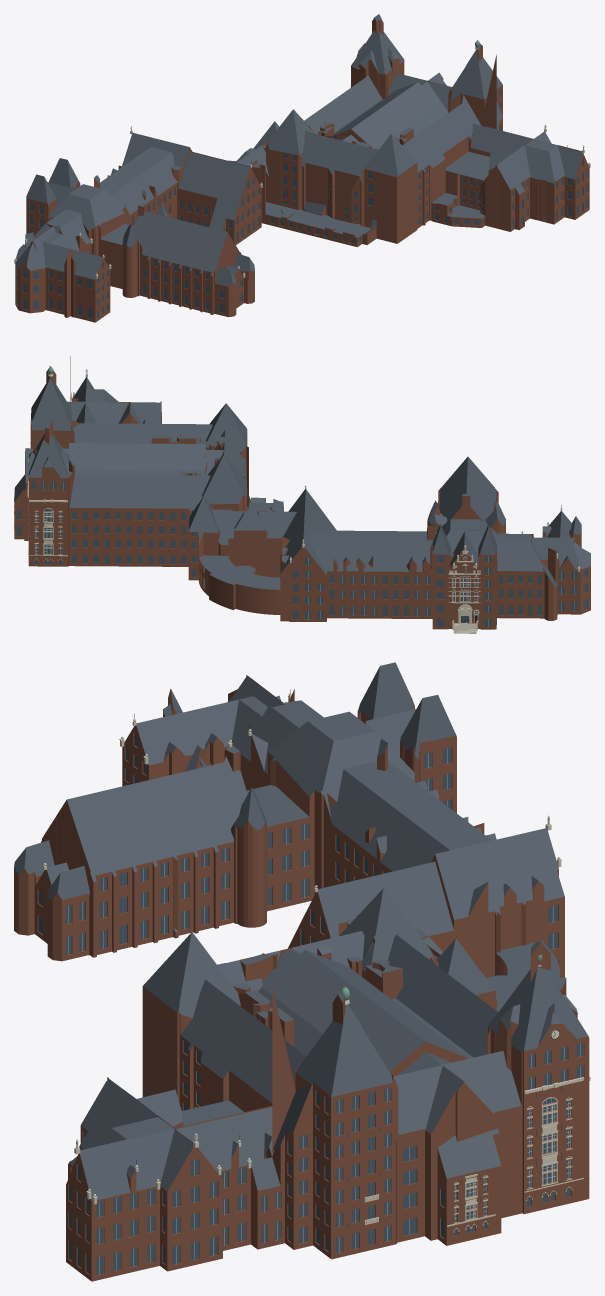
The model's file is tropenmuseum.glb.
3 views of the same model, one above another, from view 1: azimuth 30°, elevation 25°; view 2: azimuth 150°, elevation 25°; view 3: azimuth 270°, elevation 25° (orthographic). The views are drawn at different scales.
Visible parts, largest first — view 1: tropenmuseum; view 2: tropenmuseum; view 3: tropenmuseum.
Boxes of the visible parts, left/top/right/bottom form: tropenmuseum: left=14, top=14, right=590, bottom=322; tropenmuseum: left=14, top=356, right=590, bottom=633; tropenmuseum: left=14, top=662, right=590, bottom=1281.
Bounding box in the file's own units: 190 × 45.28 × 93.24.
